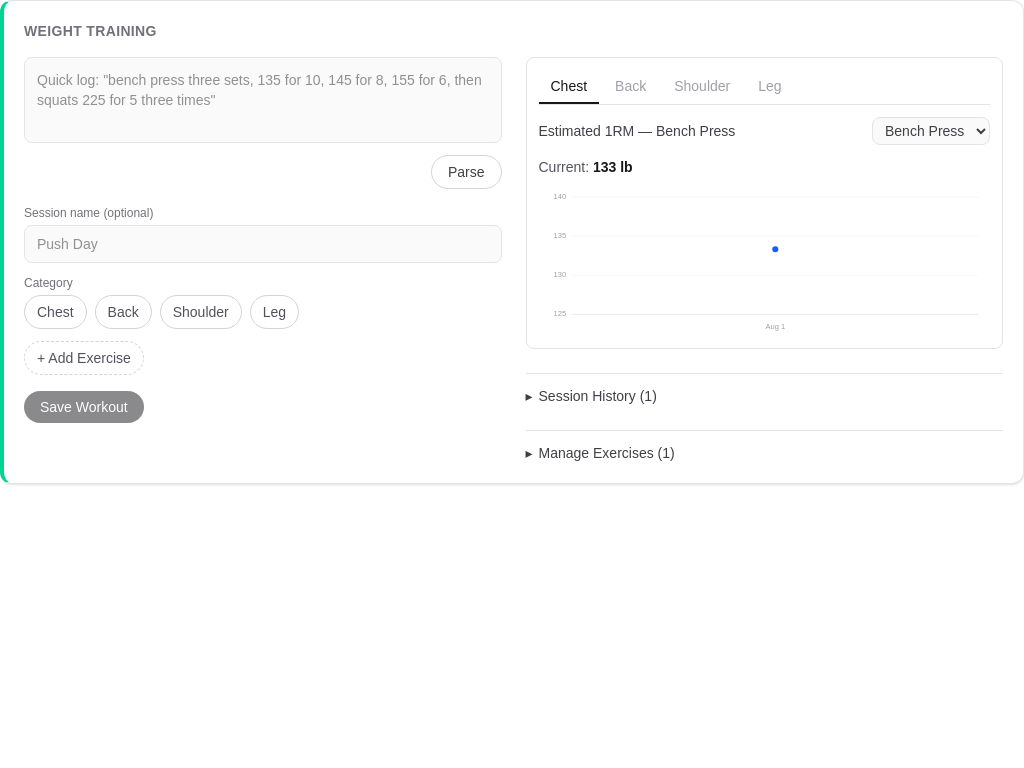
Test: WorkoutCard › shows a new-PR banner only when the new session beats prior history — measured against history as it stood before this save
Click the button "Chest" below "Category".
click(55, 312)  # box [24,295,87,329]
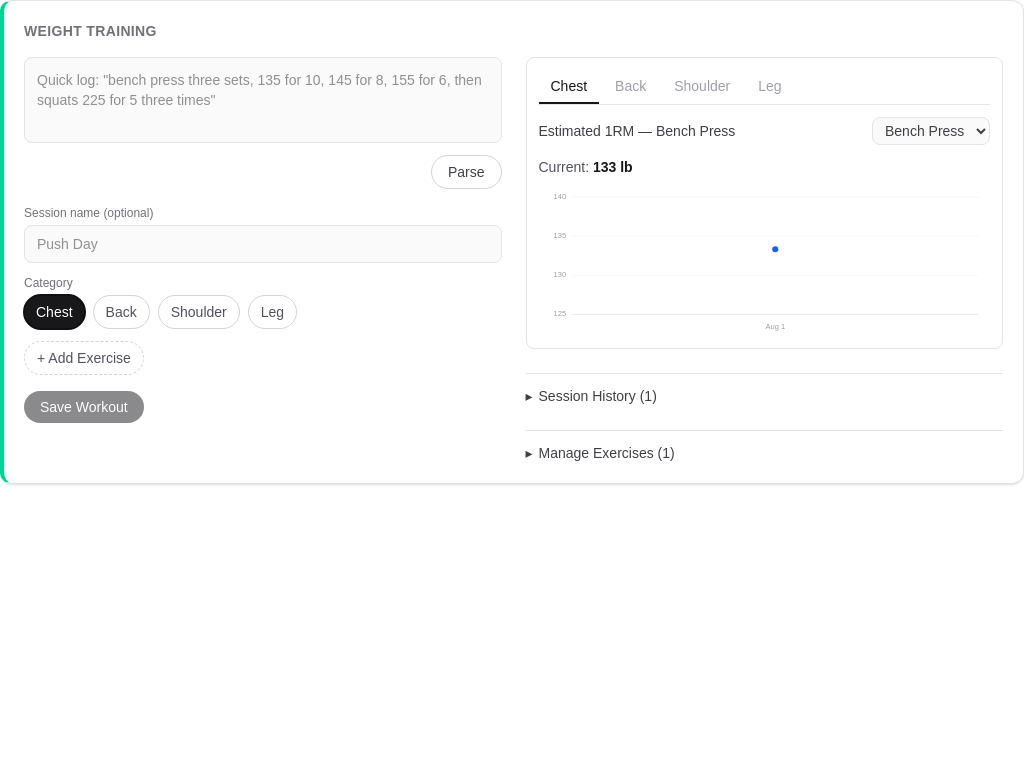
Click the button "+ Add Exercise".
click(84, 358)  # box [24,341,144,375]
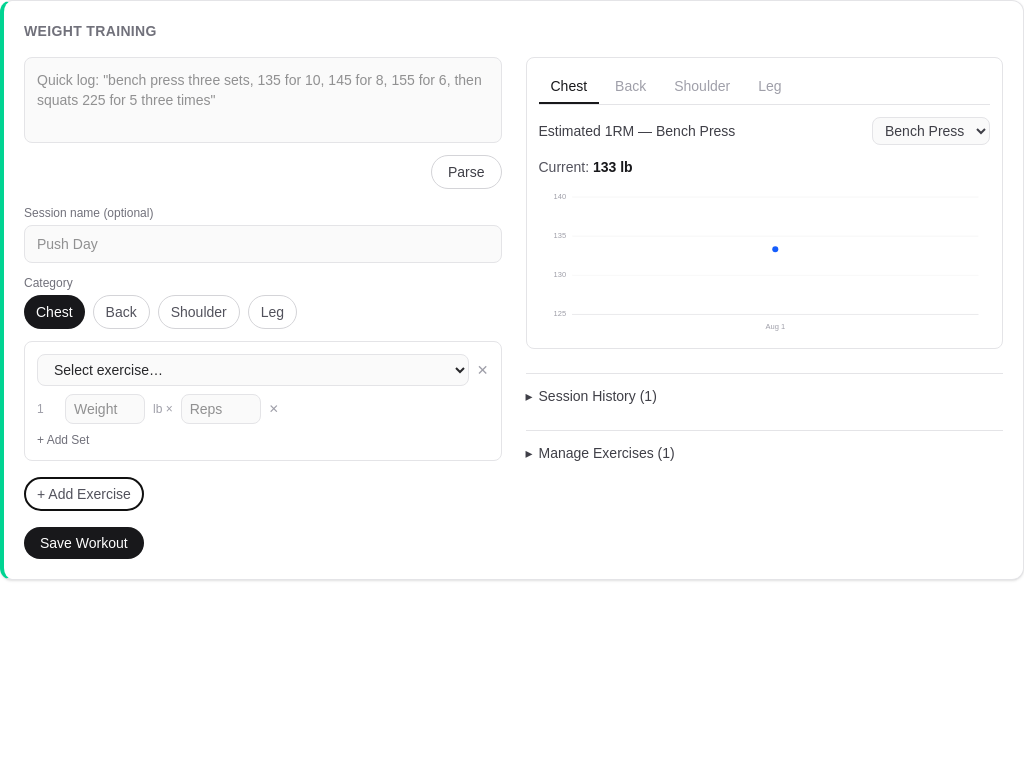
Select "Bench Press" in the dropdown named "Exercise" at (253,370), box [37,354,469,386]
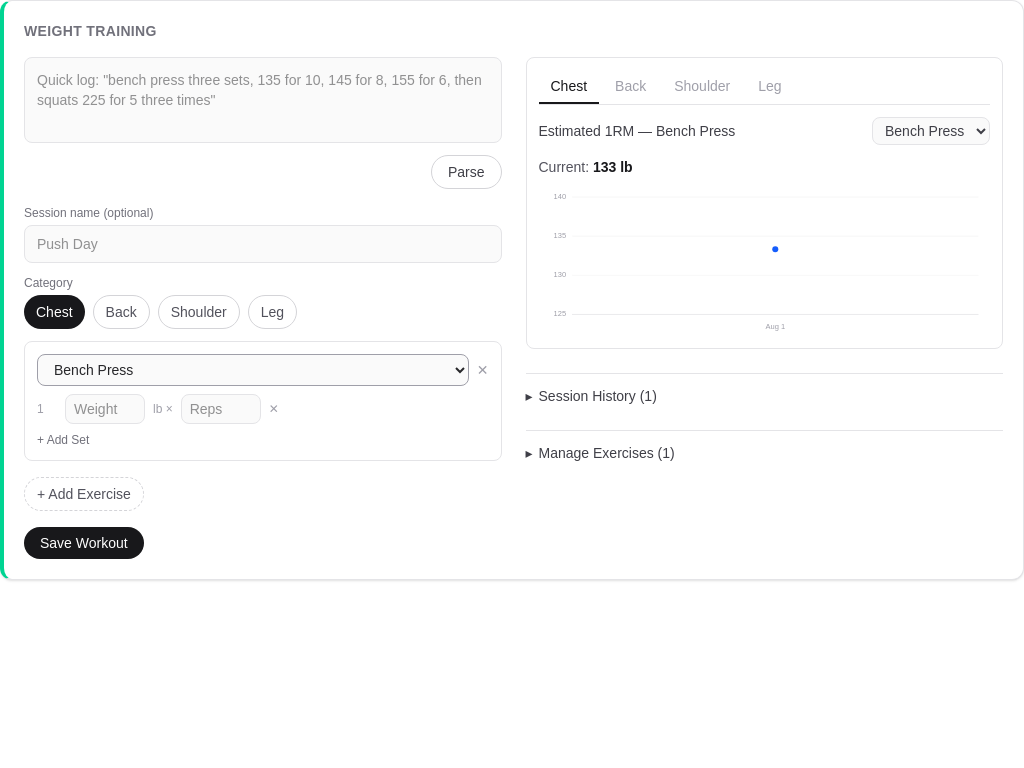
Type "150" into the number field with placeholder "Weight".
click(105, 409); type("150")  # box [65,394,145,424]
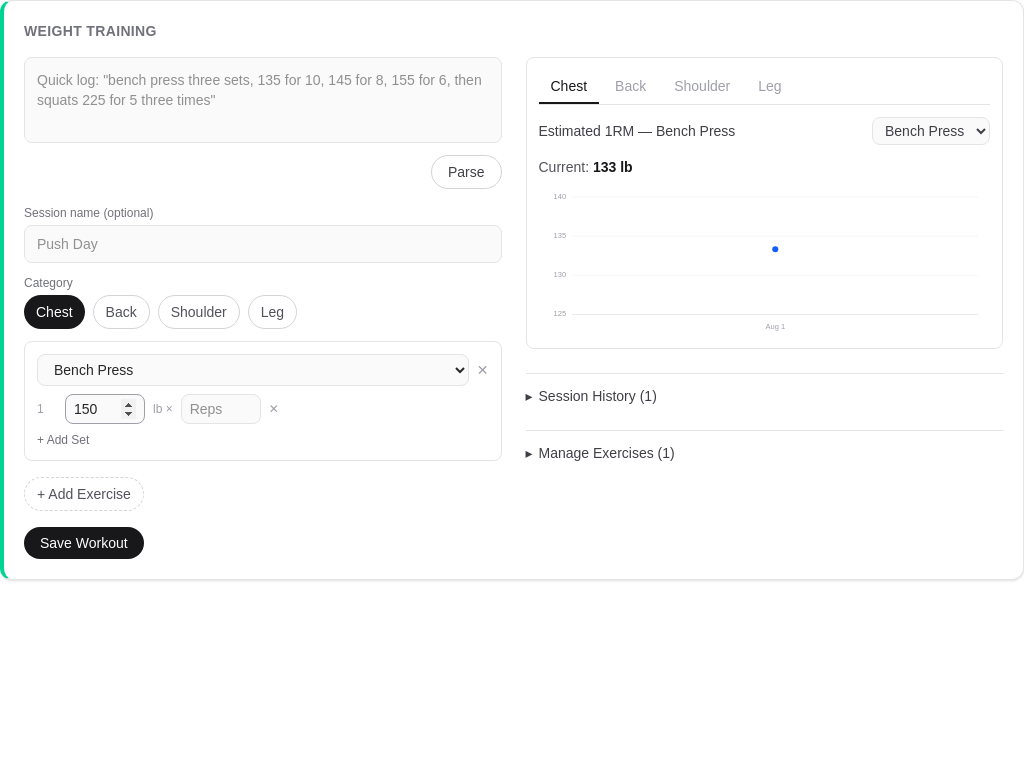
Type "10" into the number field with placeholder "Reps".
click(221, 409); type("10")  # box [181,394,261,424]
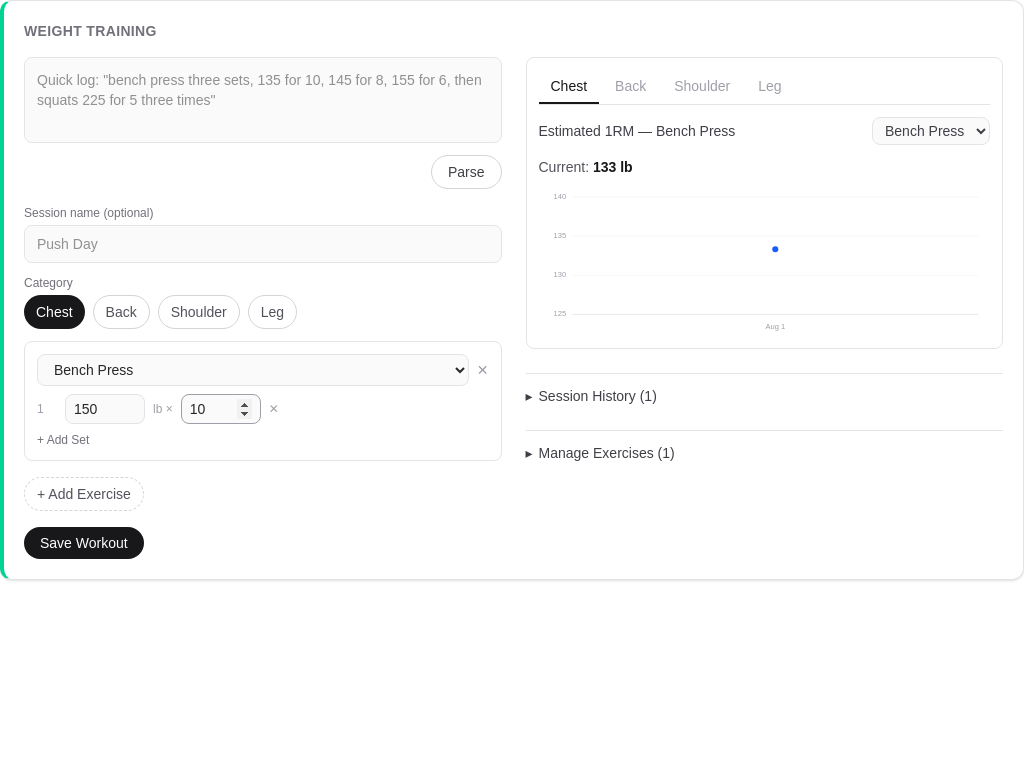
Click the button "Save Workout".
click(84, 543)  # box [24,527,144,559]
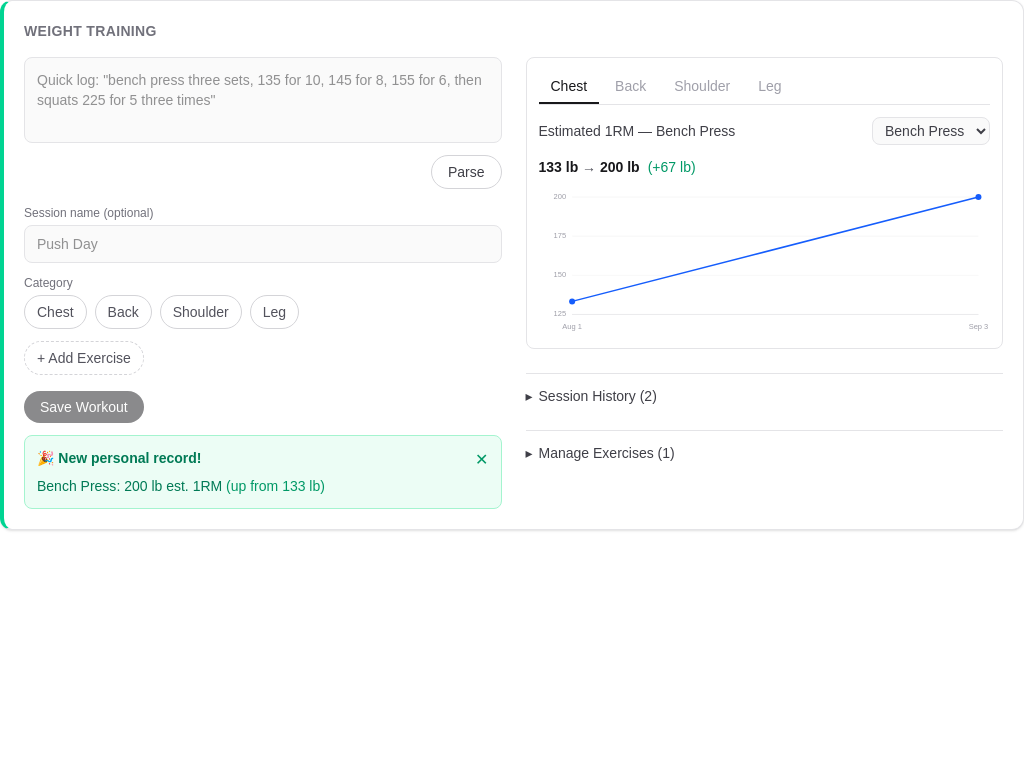
Check: the text "🎉 New personal record!" is shown, box [37,448,202,468]
Check: the list item "Bench Press: 200 lb est. 1RM (up from 133 lb)" is shown, box [37,478,325,494]
Check: the text "(up from 133 lb)" is shown, box [222,478,325,494]
